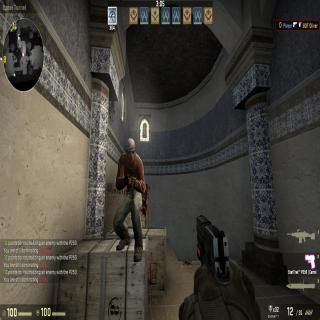T-Body: (114, 135, 145, 261)
T-Head: (125, 136, 136, 162)
